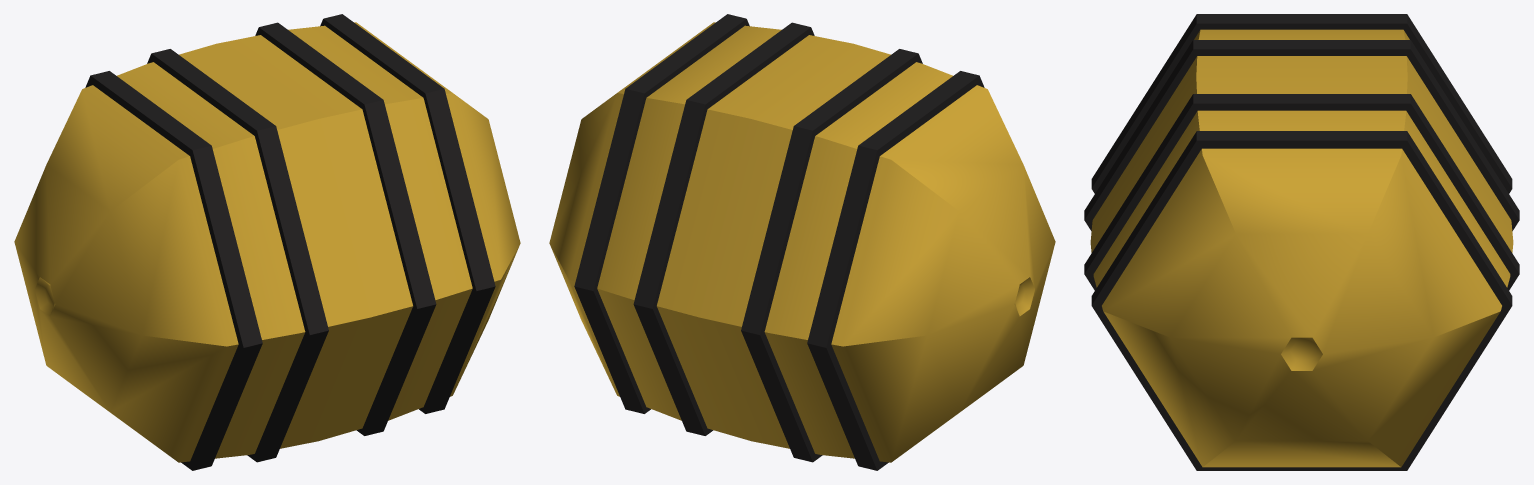
Rendered from powder_keg_d6_mobile.glb.
The picture shows the model from 3 angles, left to right: view 1: azimuth 30°, elevation 25°; view 2: azimuth 150°, elevation 25°; view 3: azimuth 270°, elevation 25°; orthographic projection. The views are drawn at different scales.
Parts seen in each view (by area): view 1: PowderKegD6; view 2: PowderKegD6; view 3: PowderKegD6.
Boxes of the visible parts, x1,y1,x2,y2 form: PowderKegD6: (14,14,520,470); PowderKegD6: (549,14,1055,470); PowderKegD6: (1084,14,1519,470).
Size of the model in its own units: 0.0974 by 0.0694 by 0.0801.
